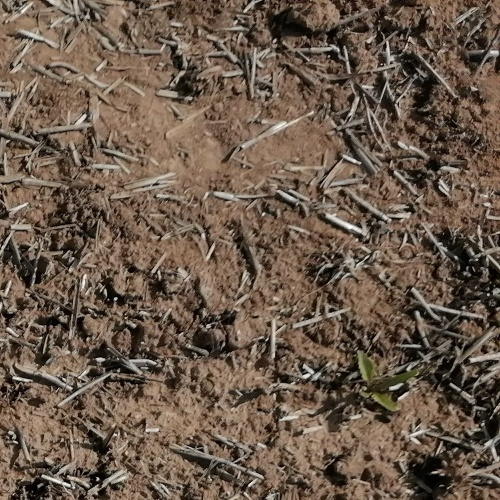beet: (358, 350, 419, 412)
